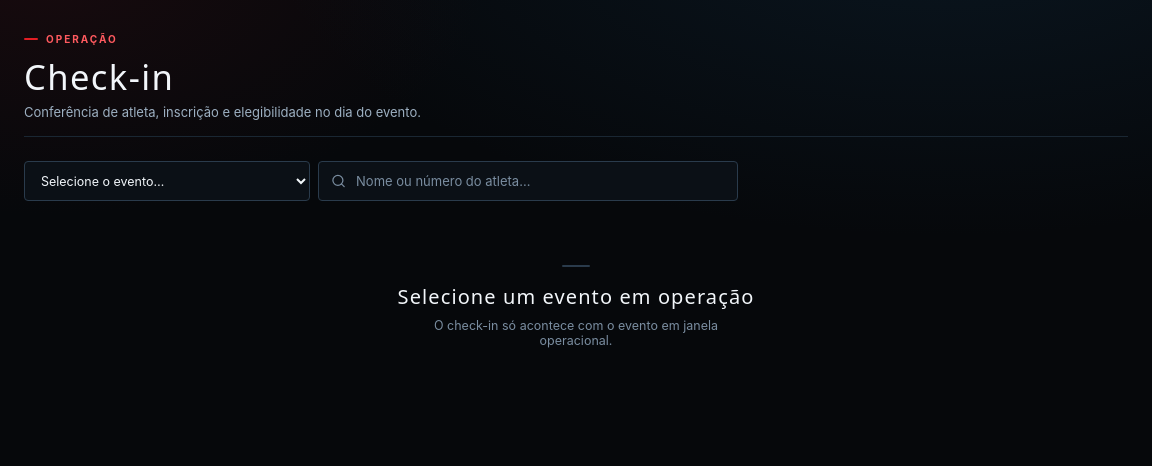
check-in › confirma NA LINHA, sem ocupar o centro da tela
Select "Muscle Contest Curitiba — Em operação" in the dropdown named "Selecionar evento" at (167, 181), box [24,161,310,201]
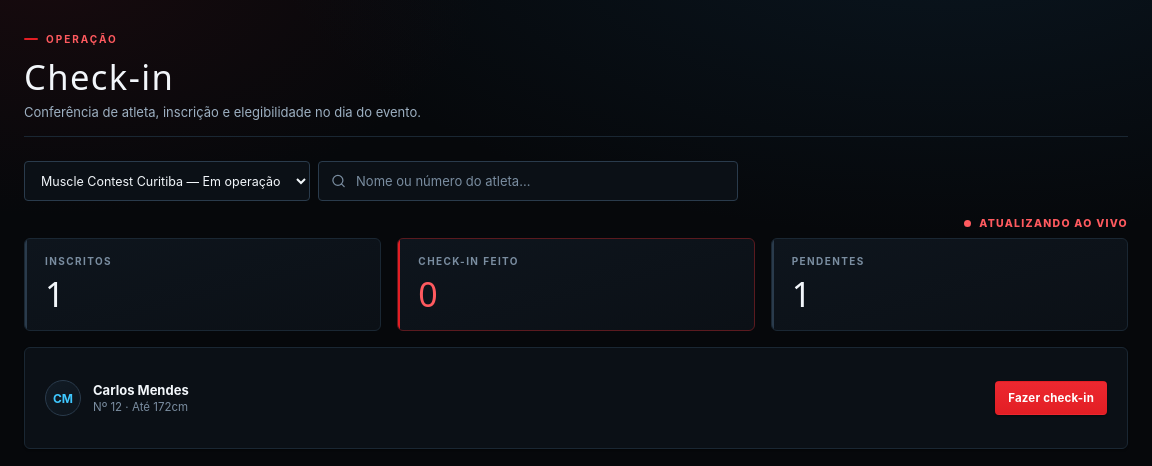
Click the button "Fazer check-in" at (1051, 398), box [995,381,1107,415]
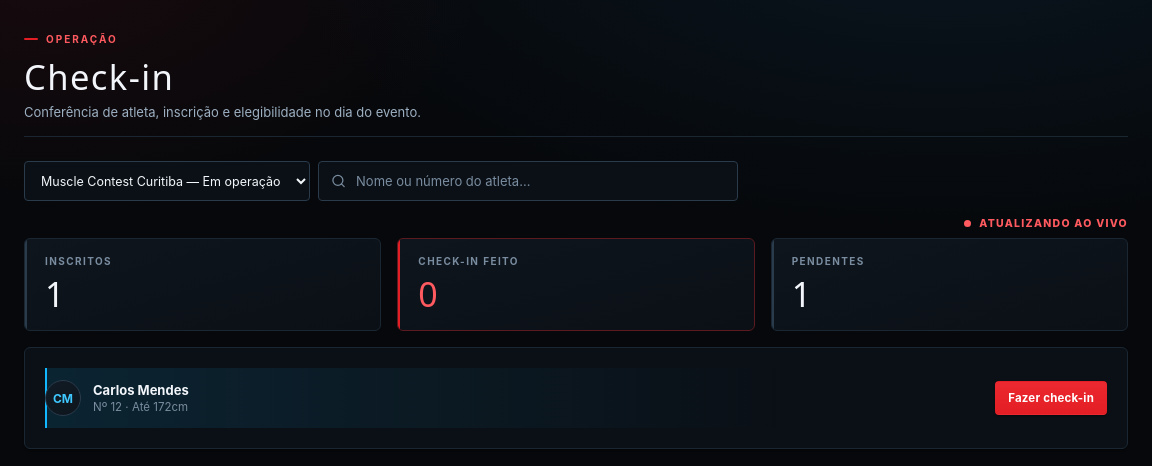
Check: the element with class "linha-afetada" is shown, box [45,368,1107,428]
